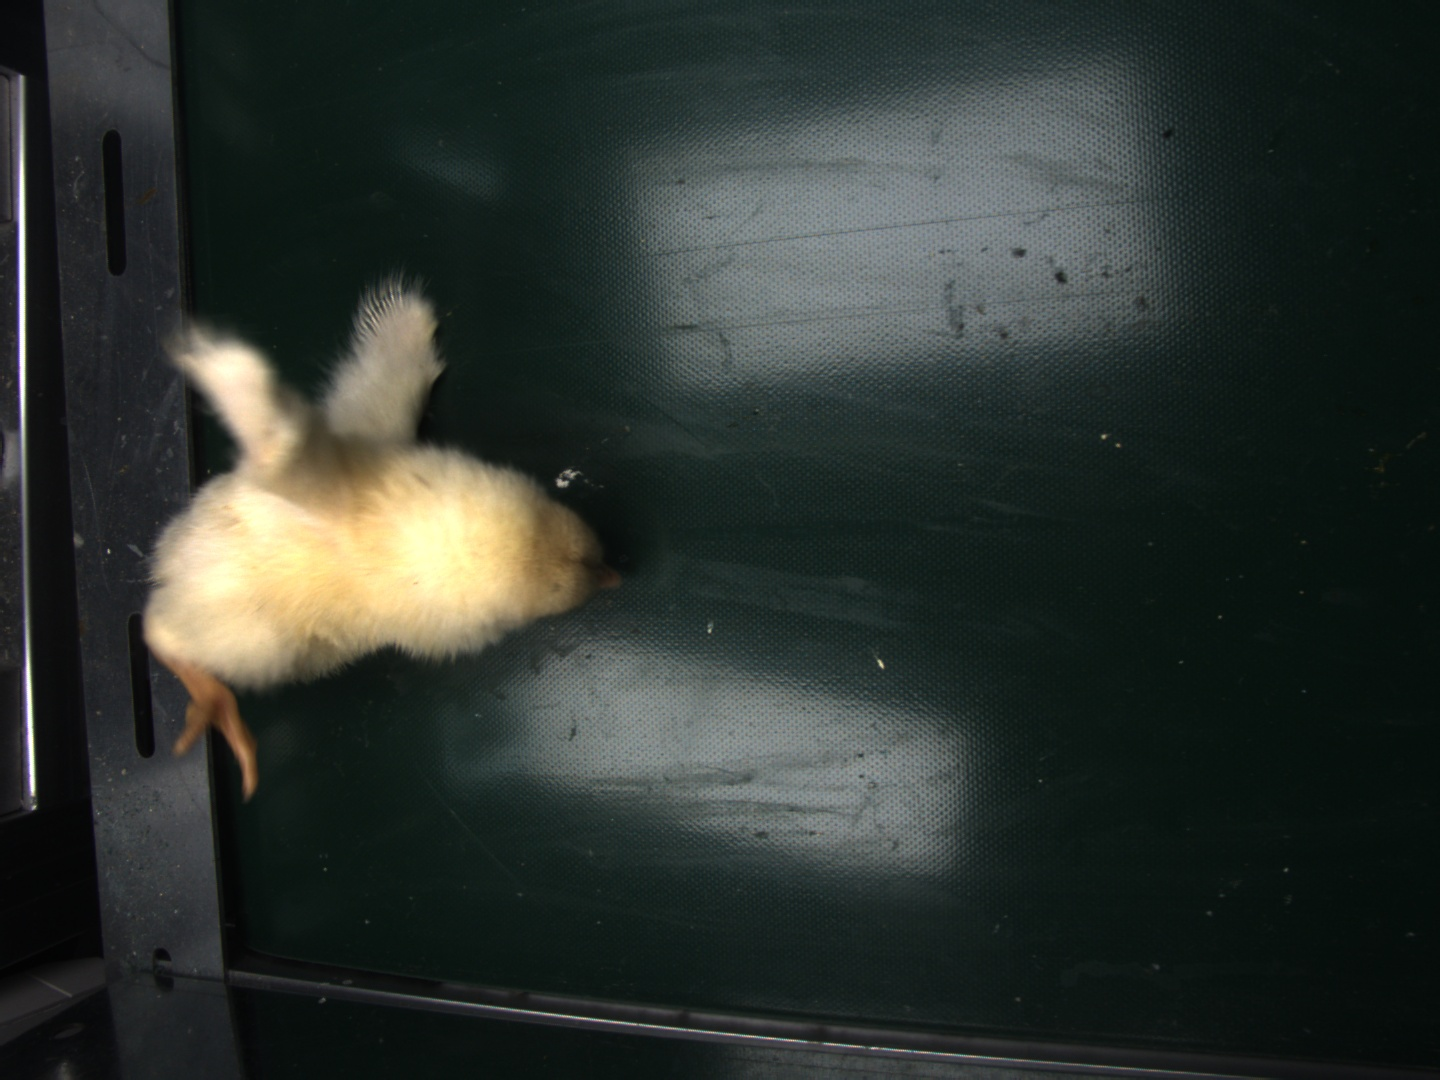male: (356, 288, 410, 336)
